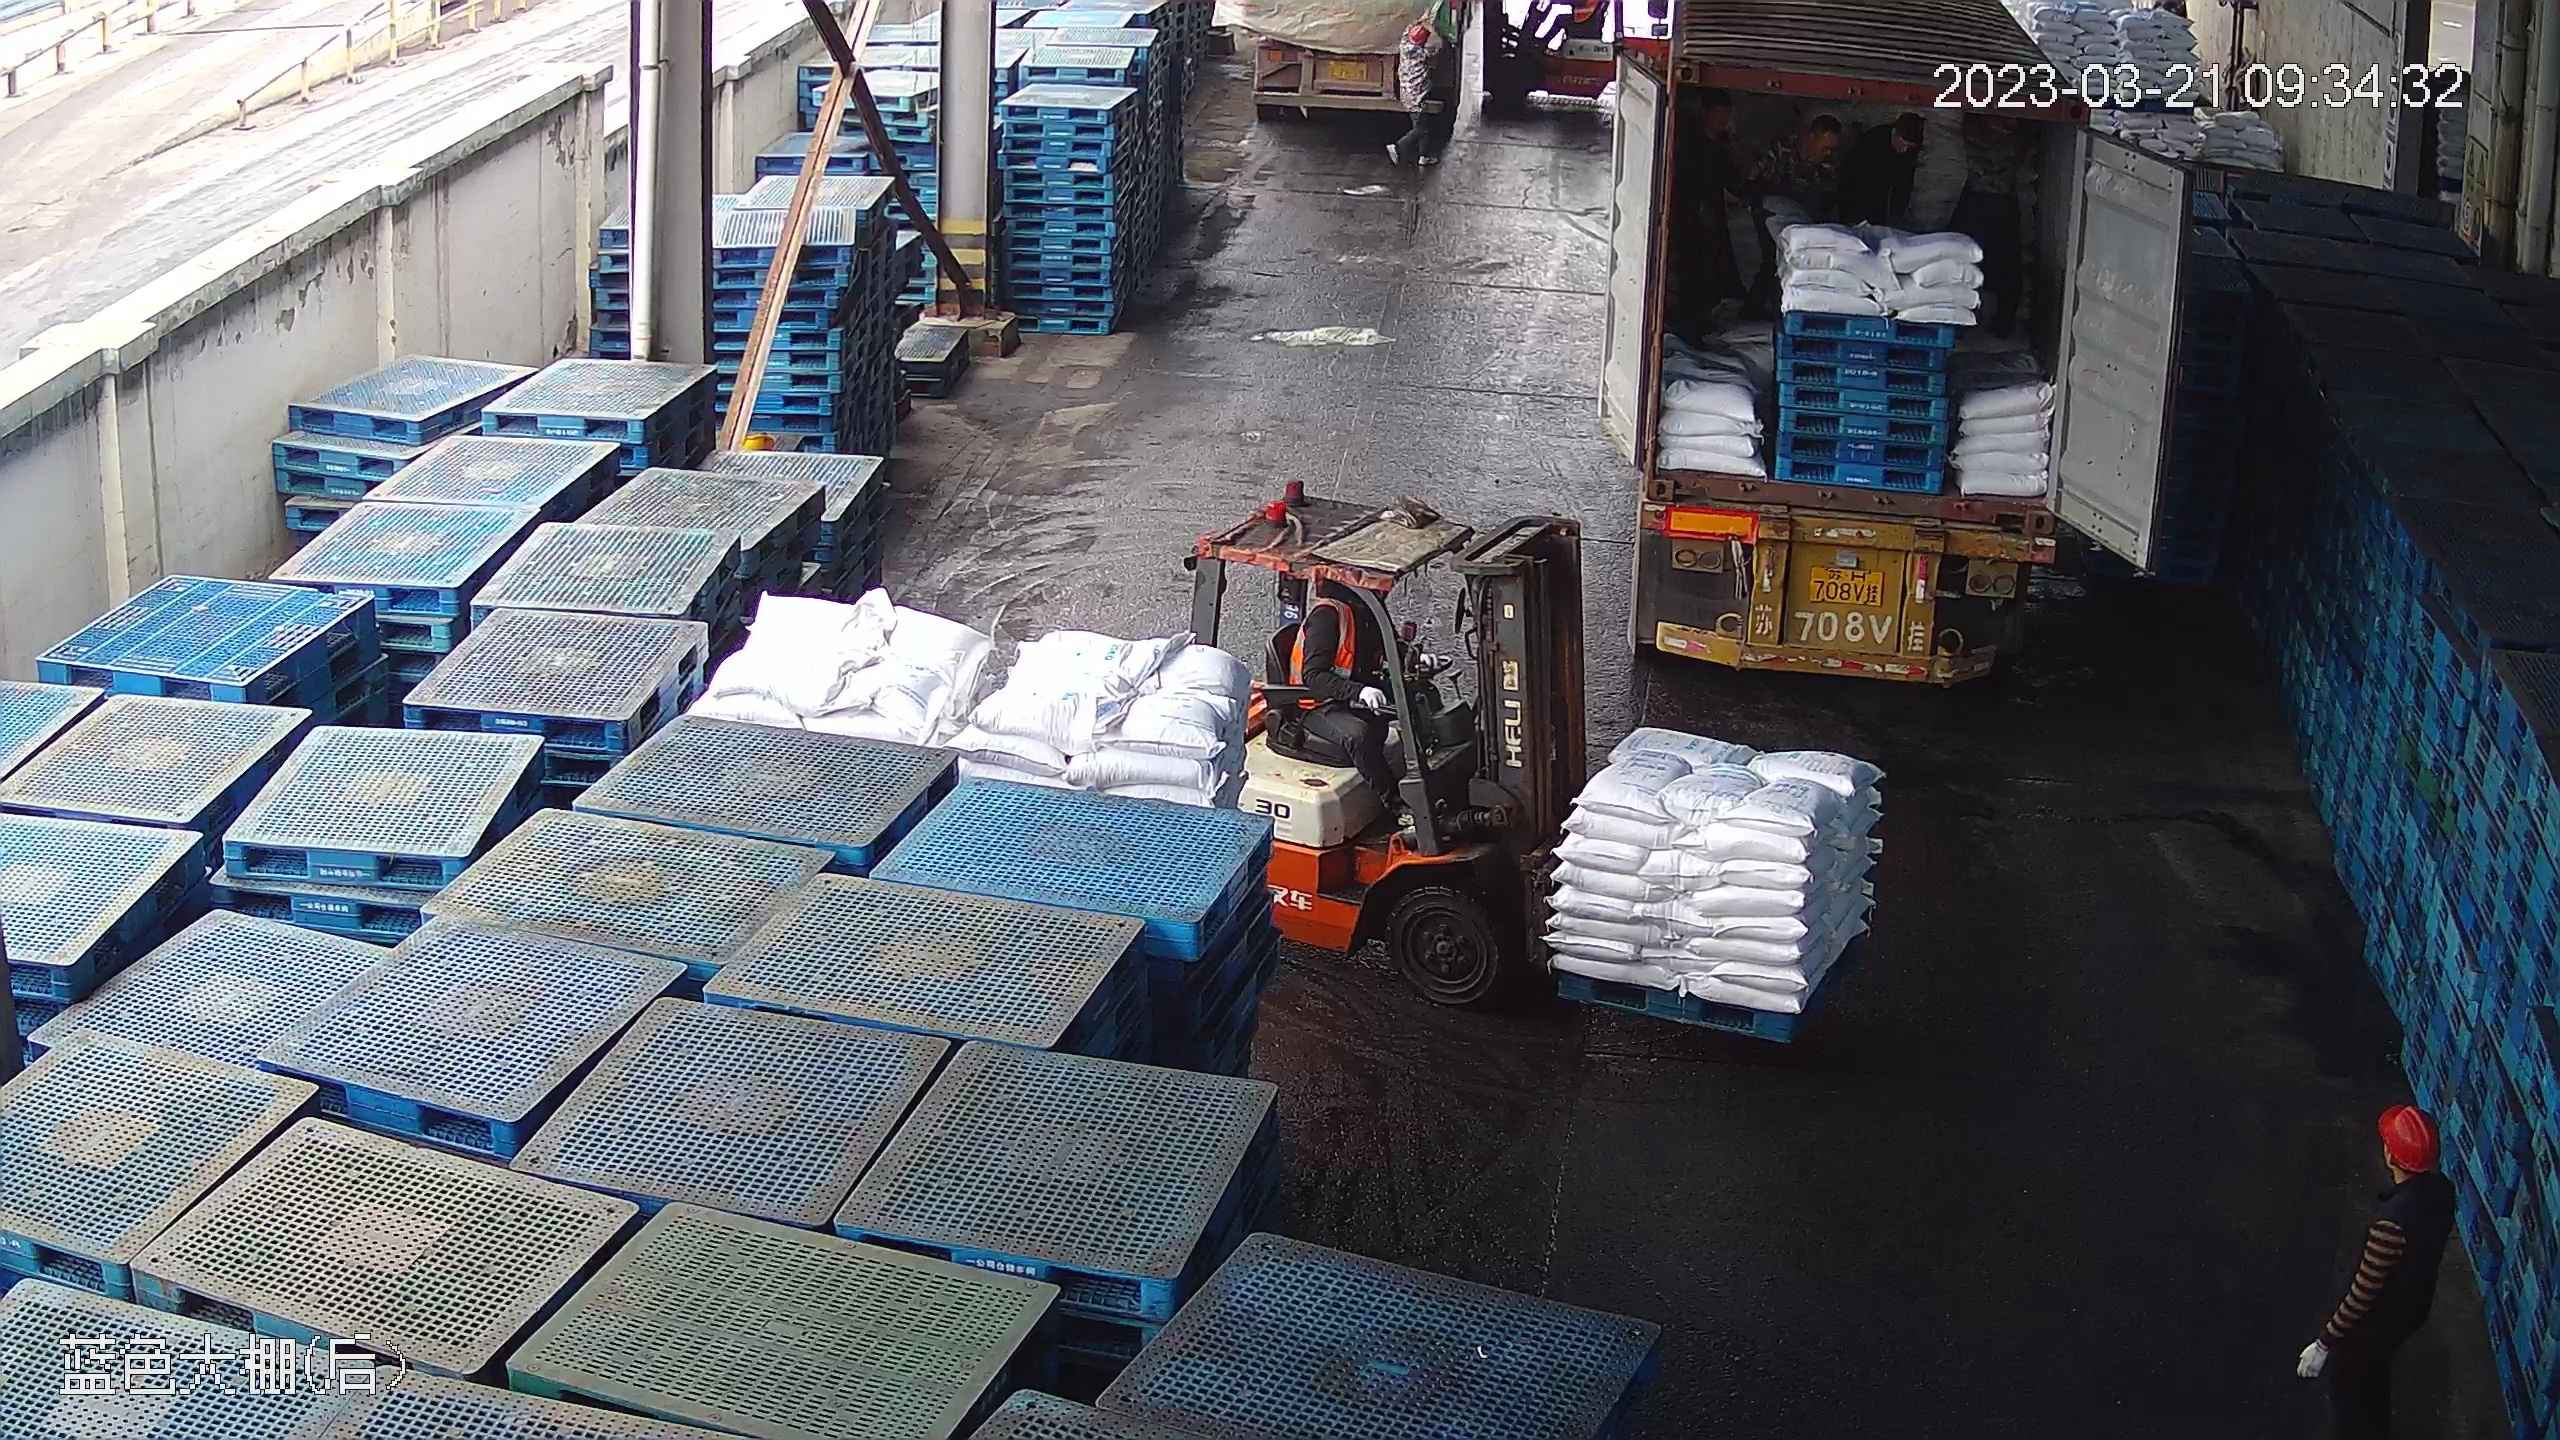head: (2365, 1101, 2457, 1222), (1670, 95, 1737, 197), (1759, 114, 1841, 190), (1852, 114, 1926, 188)
helmet: (2376, 1102, 2436, 1164)
people: (2295, 1102, 2457, 1440), (1739, 110, 1842, 323), (1670, 90, 1749, 332), (1847, 112, 1928, 231)
truck: (1601, 32, 2097, 691), (1234, 1, 1461, 129)
